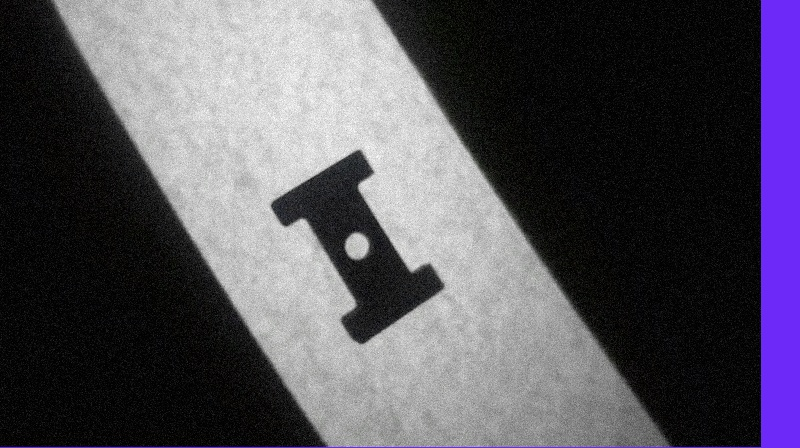O002: (264, 145, 447, 345)
